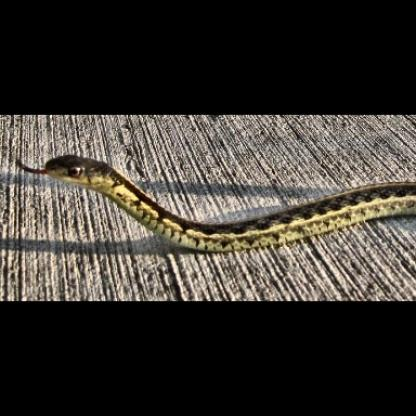Snake: (20, 149, 416, 257)
